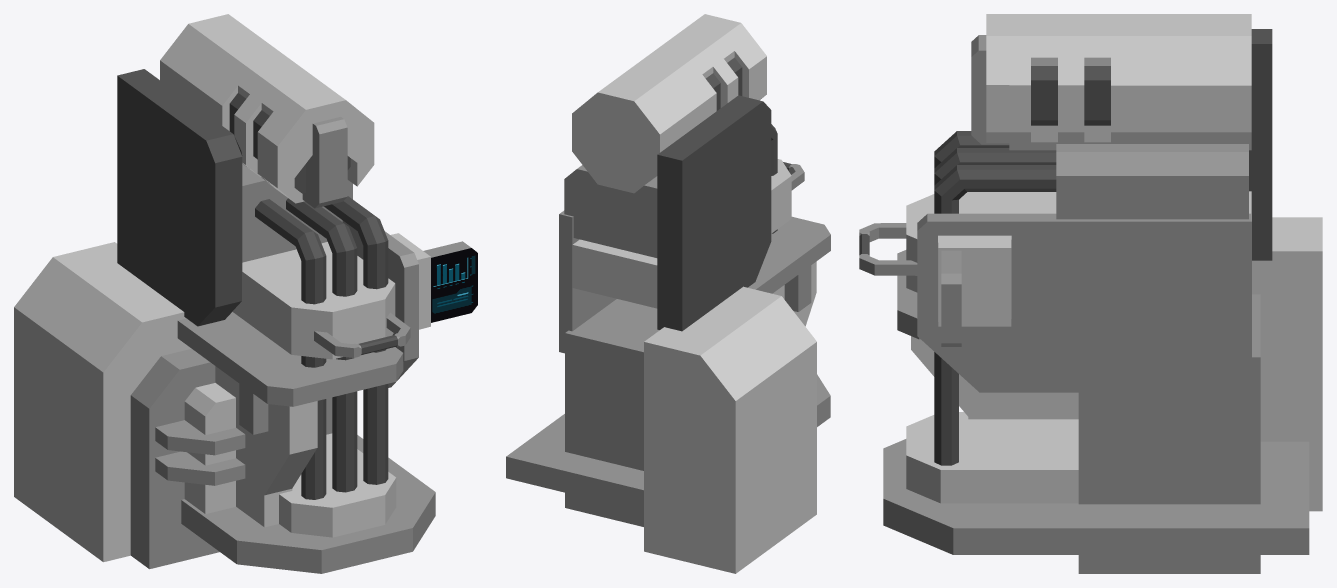
File: SM_Machine_4.fbx
3 views of the same model, side by side, from view 1: azimuth 30°, elevation 25°; view 2: azimuth 150°, elevation 25°; view 3: azimuth 270°, elevation 25° (orthographic). The views are drawn at different scales.
Parts seen in each view (by area): view 1: SM_Machine_4; view 2: SM_Machine_4; view 3: SM_Machine_4.
Part boxes in pixels (left/top/right/bottom): SM_Machine_4: left=14, top=14, right=477, bottom=573; SM_Machine_4: left=506, top=14, right=830, bottom=573; SM_Machine_4: left=859, top=14, right=1322, bottom=573.
Size of the model in its own units: 165 by 246 by 198.
